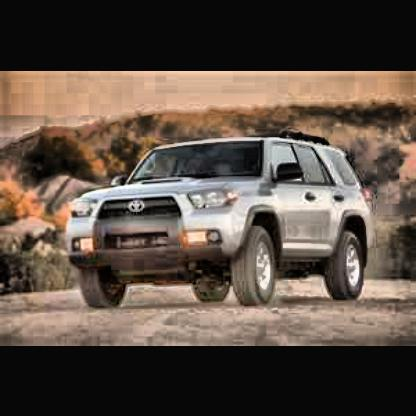Toyota 4Runner SUV 2012: (67, 133, 374, 313)
